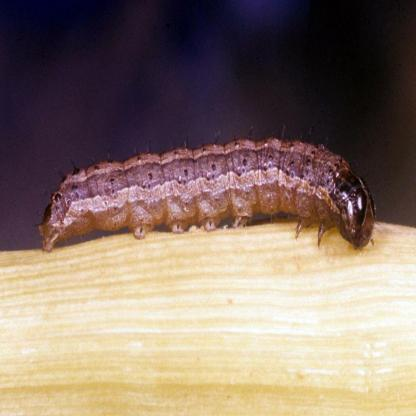armyworm: (36, 130, 378, 254)
